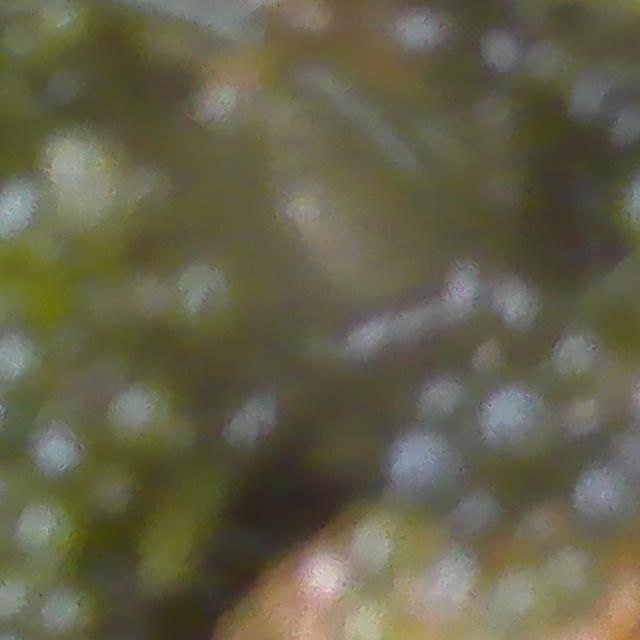SeaGrape: (105, 376, 196, 464), (8, 488, 91, 573), (77, 455, 149, 531), (31, 424, 87, 483), (0, 558, 40, 625)
